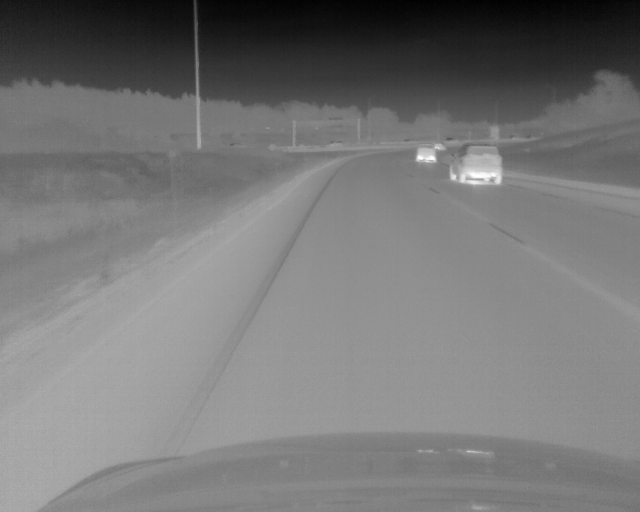car: (448, 145, 503, 184), (416, 145, 436, 162), (435, 142, 447, 150)
